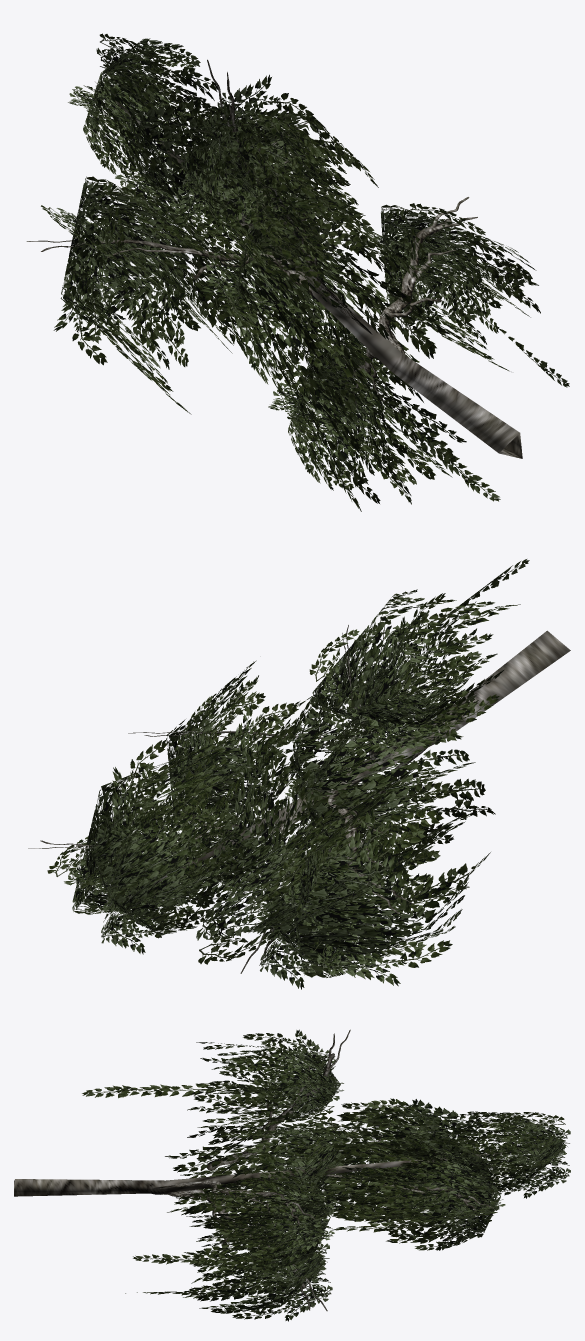
The model's file is MEP_Birch_01_g_LOD_01.fbx.
3 views of the same model, one above another, from view 1: azimuth 30°, elevation 25°; view 2: azimuth 150°, elevation 25°; view 3: azimuth 270°, elevation 25° (orthographic). The views are drawn at different scales.
Visible parts, largest first — view 1: MEP_Birch_01_g_LOD_01; view 2: MEP_Birch_01_g_LOD_01; view 3: MEP_Birch_01_g_LOD_01.
Part boxes in pixels (x1,y1,x2,y2): MEP_Birch_01_g_LOD_01: (26,33,569,511); MEP_Birch_01_g_LOD_01: (28,559,570,989); MEP_Birch_01_g_LOD_01: (14,1029,570,1321).
Size of the model in its own units: 7 by 7.5 by 13.53.
